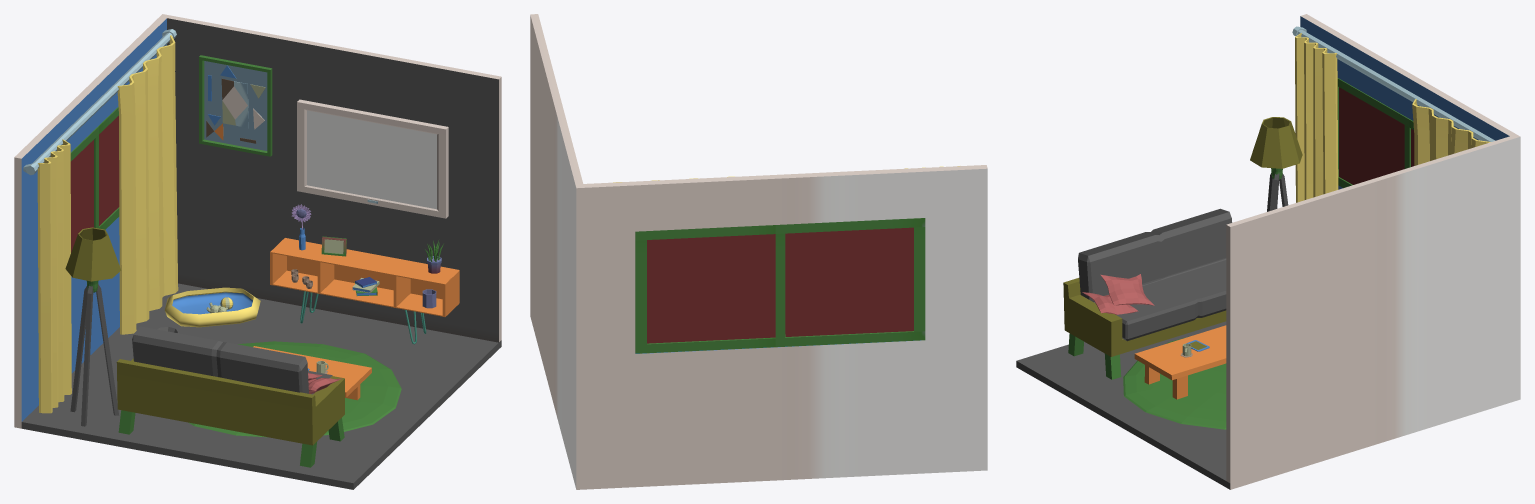
File: Livingroom_2.fbx
3 renders of one model, left to right at view 1: azimuth 30°, elevation 25°; view 2: azimuth 150°, elevation 25°; view 3: azimuth 270°, elevation 25°, orthographic. The views are drawn at different scales.
Parts seen in each view (by area): view 1: Livingroom2_Base, Livingroom2_Sofa, Livingroom2_Curtain2, Livingroom2_TV, Livingroom2_Shelf, Livingroom2_Curtain, Livingroom2_Picture, Livingroom2_Window, Livingroom2_Lamp, Livingroom2_Rug, Livingroom2_DogBed, Livingroom2_Cornice (+1 smaller); view 2: Livingroom2_Base, Livingroom2_Window; view 3: Livingroom2_Base, Livingroom2_Sofa, Livingroom2_Curtain, Livingroom2_Window, Livingroom2_Rug, Livingroom2_Table, Livingroom2_Lamp, Livingroom2_Curtain2, Livingroom2_Cornice, Livingroom2_Pillow_2, Livingroom2_Pillow.
Part boxes in pixels (x1,y1,x2,y2): Livingroom2_Base: [14, 14, 501, 489]; Livingroom2_Sofa: [116, 326, 344, 467]; Livingroom2_Curtain2: [117, 35, 178, 334]; Livingroom2_TV: [297, 99, 448, 218]; Livingroom2_Shelf: [270, 238, 459, 344]; Livingroom2_Curtain: [37, 139, 71, 413]; Livingroom2_Picture: [199, 55, 272, 156]; Livingroom2_Window: [70, 107, 119, 252]; Livingroom2_Lamp: [65, 227, 121, 426]; Livingroom2_Rug: [189, 341, 401, 437]; Livingroom2_DogBed: [164, 287, 260, 327]; Livingroom2_Cornice: [23, 29, 176, 175]; Livingroom2_Base: [530, 14, 987, 489]; Livingroom2_Window: [635, 218, 925, 353]; Livingroom2_Base: [1016, 14, 1520, 489]; Livingroom2_Sofa: [1063, 208, 1232, 379]; Livingroom2_Curtain: [1295, 33, 1338, 202]; Livingroom2_Window: [1337, 78, 1414, 188]; Livingroom2_Rug: [1123, 337, 1226, 429]; Livingroom2_Table: [1134, 325, 1226, 399]; Livingroom2_Lamp: [1250, 117, 1302, 211]; Livingroom2_Curtain2: [1412, 99, 1490, 165]; Livingroom2_Cornice: [1292, 26, 1494, 141]; Livingroom2_Pillow_2: [1100, 274, 1154, 305]; Livingroom2_Pillow: [1082, 292, 1138, 314].
Bounding box in the file's own units: 699 × 402 × 699.
